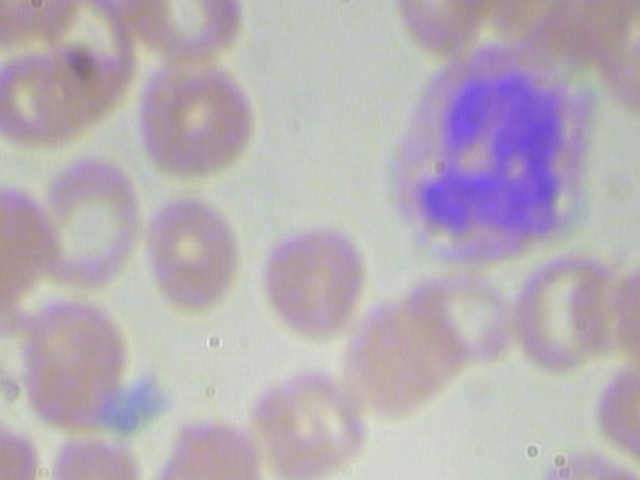WBC: (365, 43, 609, 273)
